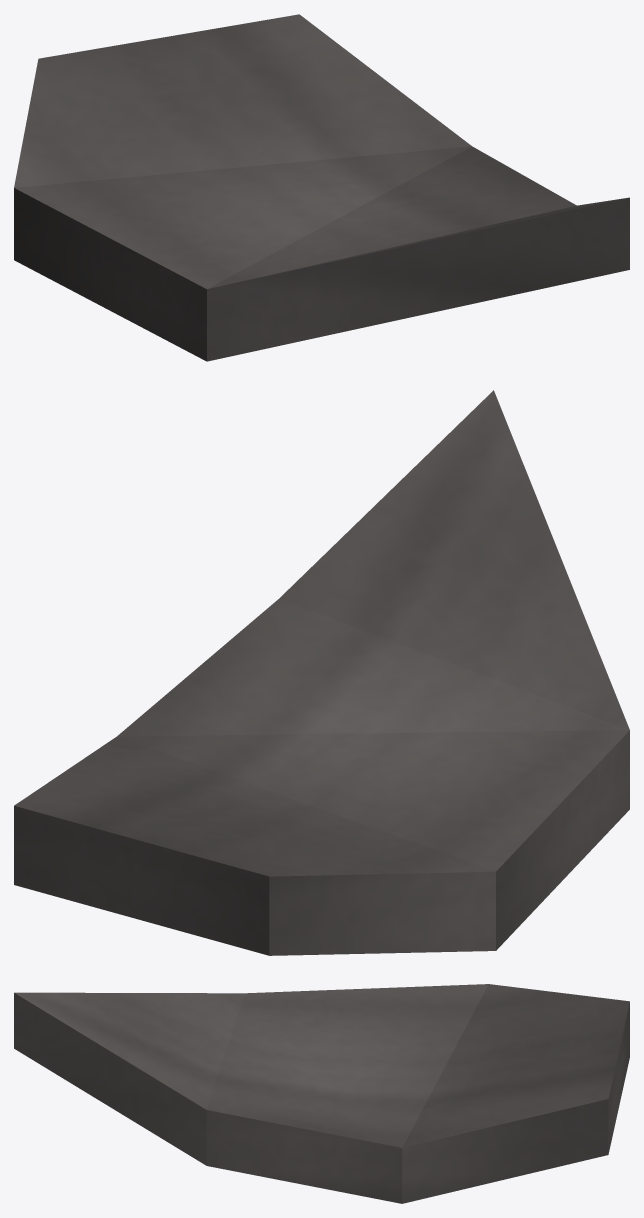
Rendered from crashed_pod_shard2_v1.fbx.
The picture shows the model from 3 angles, top to bottom: view 1: azimuth 30°, elevation 25°; view 2: azimuth 150°, elevation 25°; view 3: azimuth 270°, elevation 25°; orthographic projection. The views are drawn at different scales.
Visible parts, largest first — view 1: crashed_pod_shard2_v1; view 2: crashed_pod_shard2_v1; view 3: crashed_pod_shard2_v1.
Part boxes in pixels (<box>): crashed_pod_shard2_v1: <box>14,14,629,361</box>; crashed_pod_shard2_v1: <box>14,390,629,955</box>; crashed_pod_shard2_v1: <box>14,984,629,1203</box>.
Size of the model in its own units: 17.45 by 9.44 by 29.92.
Materials: 1 (1 with a texture image).
